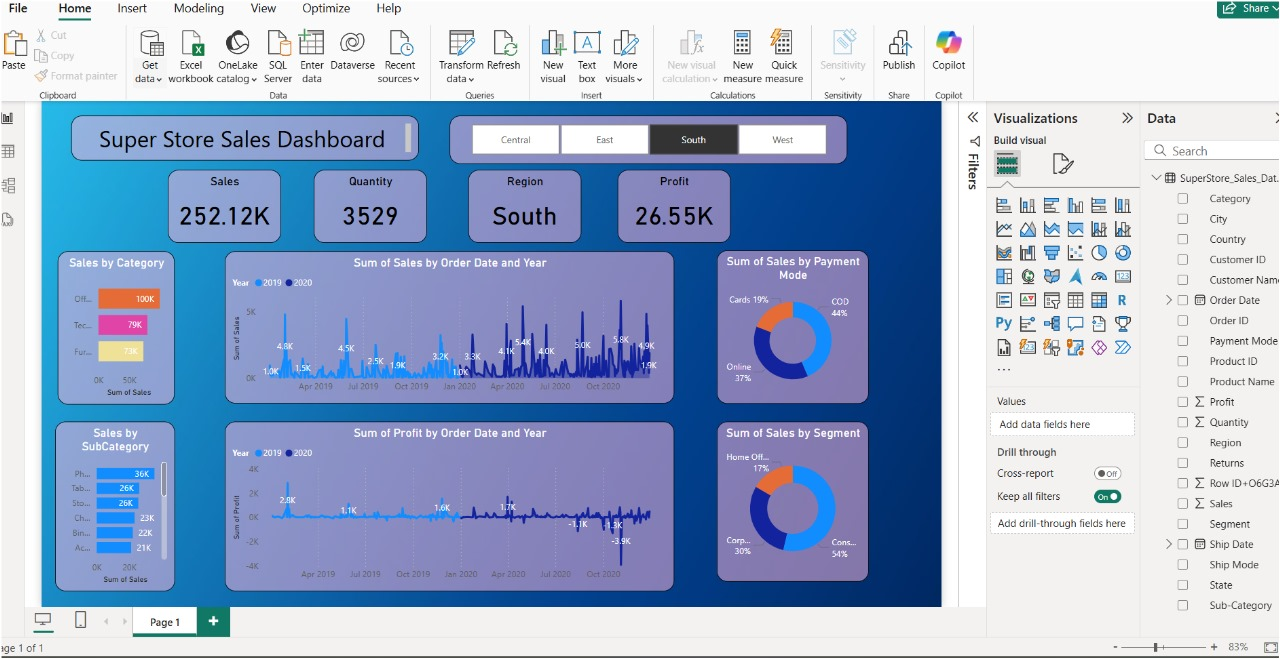

Layout of this report page (visuals, bound fields, positions):
{"tool":"powerbi","page":{"name":"Page 1","canvas":[1280,720],"ordinal":0},"visuals":[{"type":"clusteredBarChart","title":"Sales by Category","fields":{"Category":["SuperStore_Sales_Dataset (1).Category"],"Y":["Sum(SuperStore_Sales_Dataset (1).Sales)"]},"box":[22.9,213.5,166.5,218.4],"z":0},{"type":"clusteredBarChart","title":"Sales by SubCategory","fields":{"Category":["SuperStore_Sales_Dataset (1).Sub-Category","SuperStore_Sales_Dataset (1).Category"],"Y":["Sum(SuperStore_Sales_Dataset (1).Sales)"]},"box":[19.3,456,170.1,241.3],"z":1000},{"type":"stackedAreaChart","fields":{"Y":["Sum(SuperStore_Sales_Dataset (1).Sales)"],"Series":["SuperStore_Sales_Dataset (1).Order Date.Variation.Date Hierarchy.Year"],"Category":["SuperStore_Sales_Dataset (1).Order Date"]},"box":[260.6,213.5,639.4,217.2],"z":2000},{"type":"stackedAreaChart","fields":{"Y":["Sum(SuperStore_Sales_Dataset (1).Profit)"],"Series":["SuperStore_Sales_Dataset (1).Order Date.Variation.Date Hierarchy.Year"],"Category":["SuperStore_Sales_Dataset (1).Order Date"]},"box":[260.6,456,639.4,241.3],"z":3000},{"type":"donutChart","fields":{"Category":["SuperStore_Sales_Dataset (1).Segment"],"Y":["Sum(SuperStore_Sales_Dataset (1).Sales)"]},"box":[960.3,456,216,228],"z":4000},{"type":"donutChart","fields":{"Category":["SuperStore_Sales_Dataset (1).Payment Mode"],"Y":["Sum(SuperStore_Sales_Dataset (1).Sales)"]},"box":[960.3,212.3,216,218.4],"z":5000},{"type":"slicer","fields":{"Values":["SuperStore_Sales_Dataset (1).Region"]},"box":[580.3,20.5,565.8,68.8],"z":6000},{"type":"textbox","box":[42.2,20.5,494.6,63.9],"z":7000},{"type":"card","title":"Sales","fields":{"Values":["Sum(SuperStore_Sales_Dataset (1).Sales)"]},"box":[179.8,97.7,160.5,103.8],"z":7001},{"type":"card","title":"Quantity","fields":{"Values":["Sum(SuperStore_Sales_Dataset (1).Quantity)"]},"box":[387.3,97.7,160.5,103.8],"z":7002},{"type":"card","title":"Region","fields":{"Values":["Min(SuperStore_Sales_Dataset (1).Region)"]},"box":[606.8,97.7,160.5,103.8],"z":7003},{"type":"card","title":"Profit","fields":{"Values":["Sum(SuperStore_Sales_Dataset (1).Profit)"]},"box":[819.2,97.7,160.5,103.8],"z":7004}]}

Visuals, with their boxes on the page's 1280x720 design canvas (x1, y1, x2, y2). These are canvas units, not pixel positions in the 1280x659 screenshot, which may show the page scaled, cropped or inside an application window:
"Sales by Category" clusteredBarChart: bbox=(23, 214, 189, 432)
"Sales by SubCategory" clusteredBarChart: bbox=(19, 456, 189, 697)
stackedAreaChart - Sum(SuperStore_Sales_Dataset (1).Sales) x SuperStore_Sales_Dataset (1).Order Date.Variation.Date Hierarchy.Year: bbox=(261, 214, 900, 431)
stackedAreaChart - Sum(SuperStore_Sales_Dataset (1).Profit) x SuperStore_Sales_Dataset (1).Order Date.Variation.Date Hierarchy.Year: bbox=(261, 456, 900, 697)
donutChart - SuperStore_Sales_Dataset (1).Segment x Sum(SuperStore_Sales_Dataset (1).Sales): bbox=(960, 456, 1176, 684)
donutChart - SuperStore_Sales_Dataset (1).Payment Mode x Sum(SuperStore_Sales_Dataset (1).Sales): bbox=(960, 212, 1176, 431)
slicer - SuperStore_Sales_Dataset (1).Region: bbox=(580, 20, 1146, 89)
textbox: bbox=(42, 20, 537, 84)
"Sales" card: bbox=(180, 98, 340, 202)
"Quantity" card: bbox=(387, 98, 548, 202)
"Region" card: bbox=(607, 98, 767, 202)
"Profit" card: bbox=(819, 98, 980, 202)
